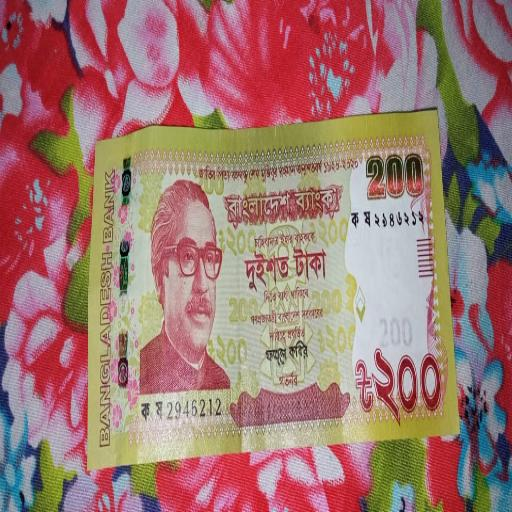200taka: (88, 112, 455, 485)
